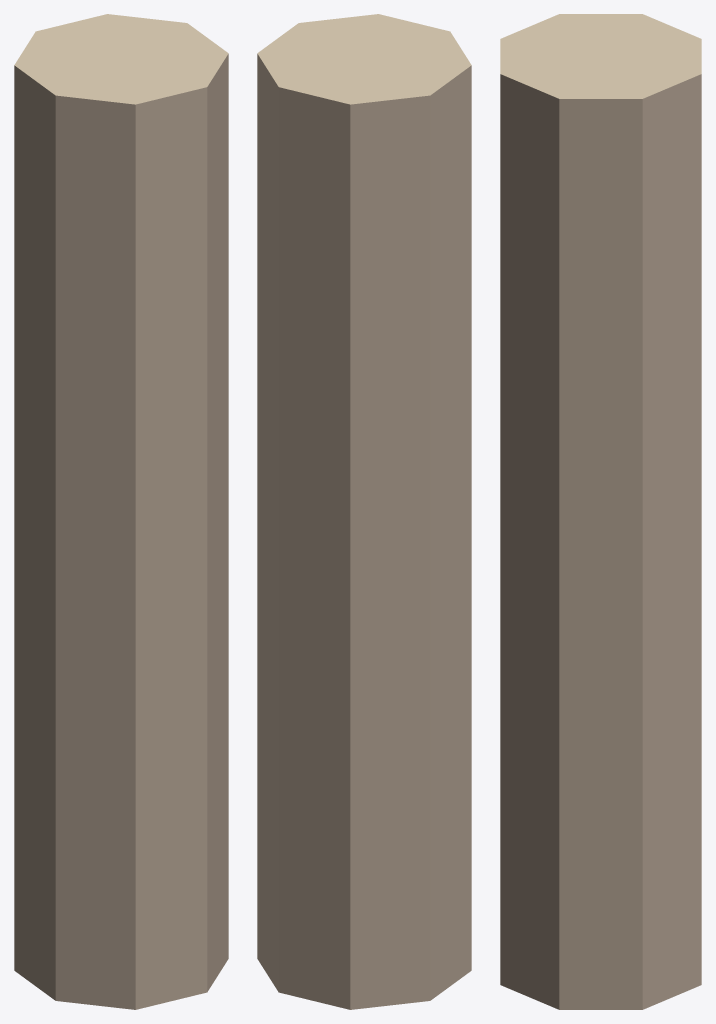
File: Prop_Bridge_Log_Post_Support.glb
3 renders of one model, left to right at view 1: azimuth 30°, elevation 25°; view 2: azimuth 150°, elevation 25°; view 3: azimuth 270°, elevation 25°, orthographic.
Parts seen in each view (by area): view 1: object1; view 2: object1; view 3: object1.
Boxes of the visible parts, box(x1,y1,x2,y2) form: object1: box(14, 14, 228, 1009); object1: box(257, 14, 471, 1009); object1: box(500, 14, 701, 1009).
Bounding box in the file's own units: 0.2 × 1 × 0.2.
